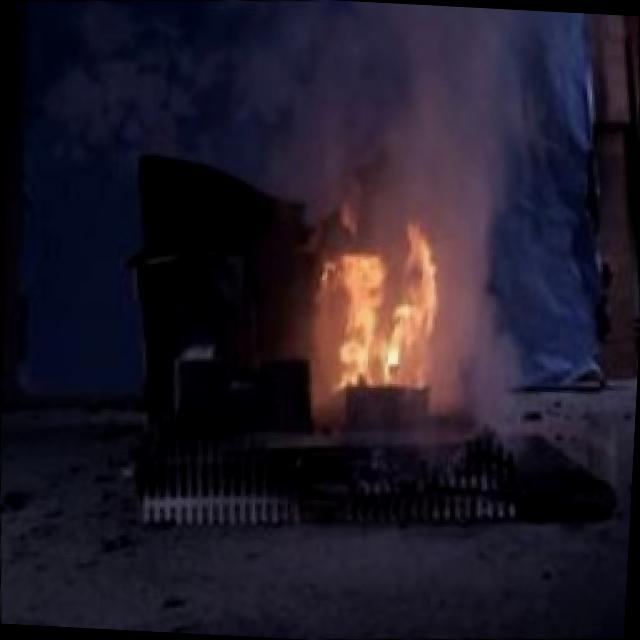fire: (306, 212, 456, 406)
